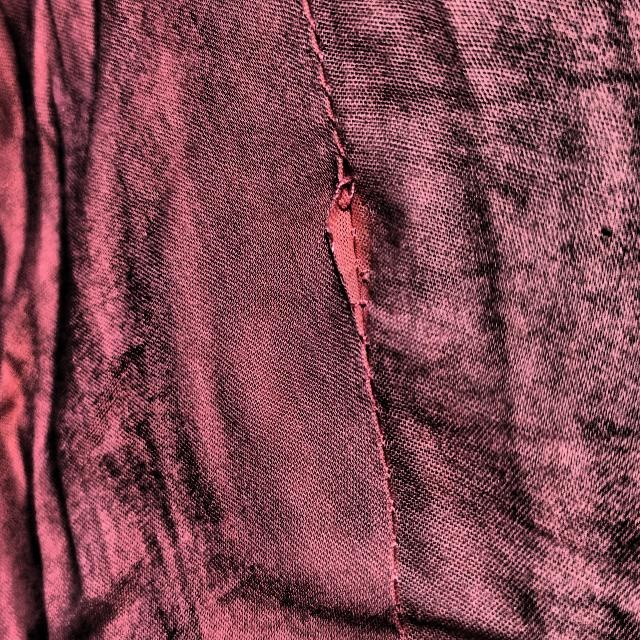seam: (251, 96, 453, 417)
